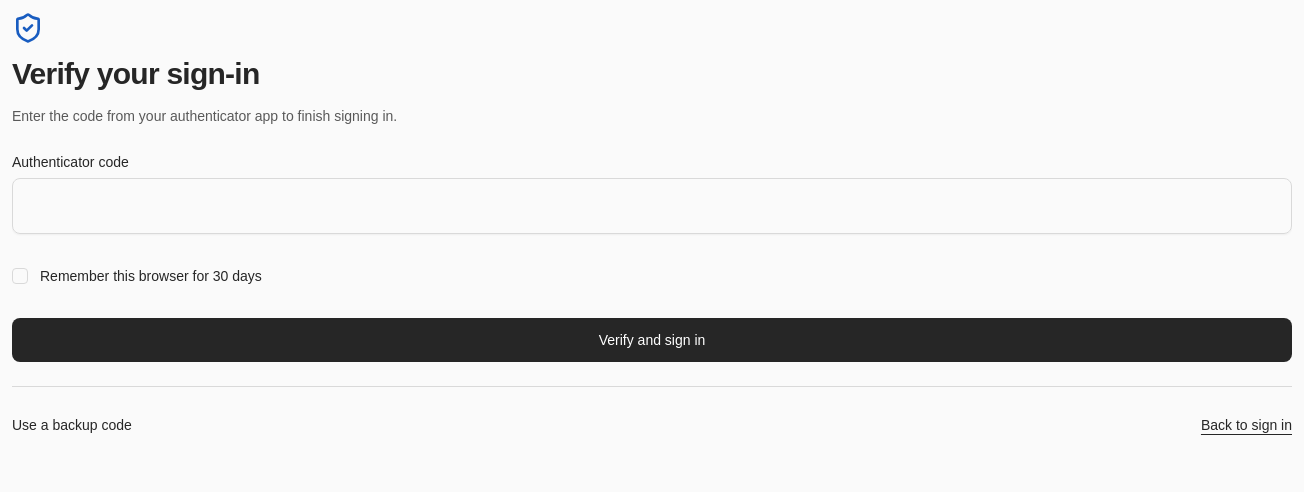
Test: second-factor login › does not complete sign-in when session confirmation is unavailable
Type "012345" into the field labelled "Authenticator code". click: (652, 206)
box: [12,178,1292,234]
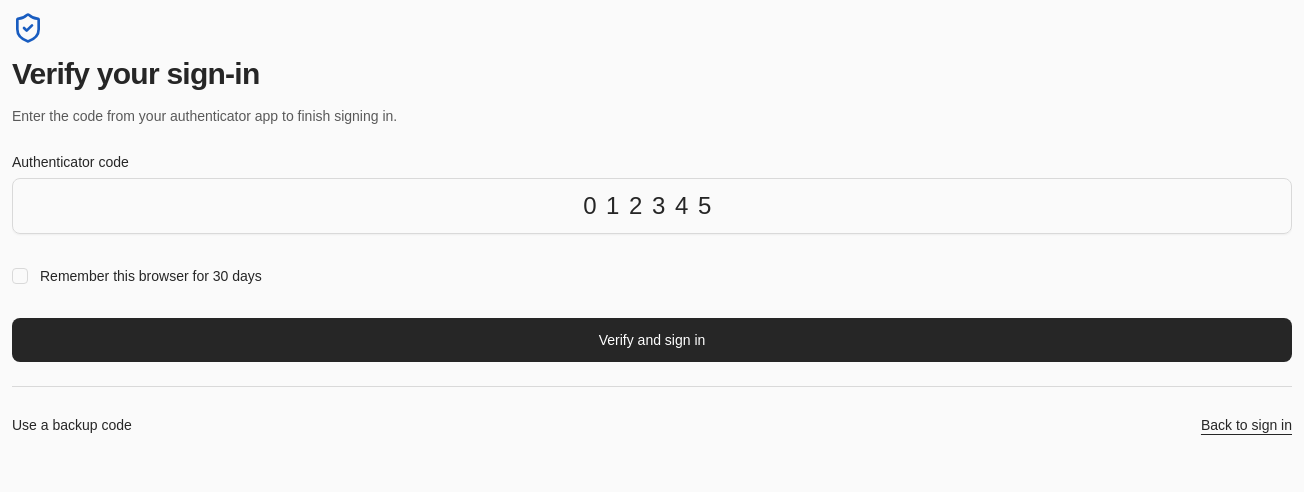
Click the button "Verify and sign in". click: (652, 340)
box: [12,318,1292,362]
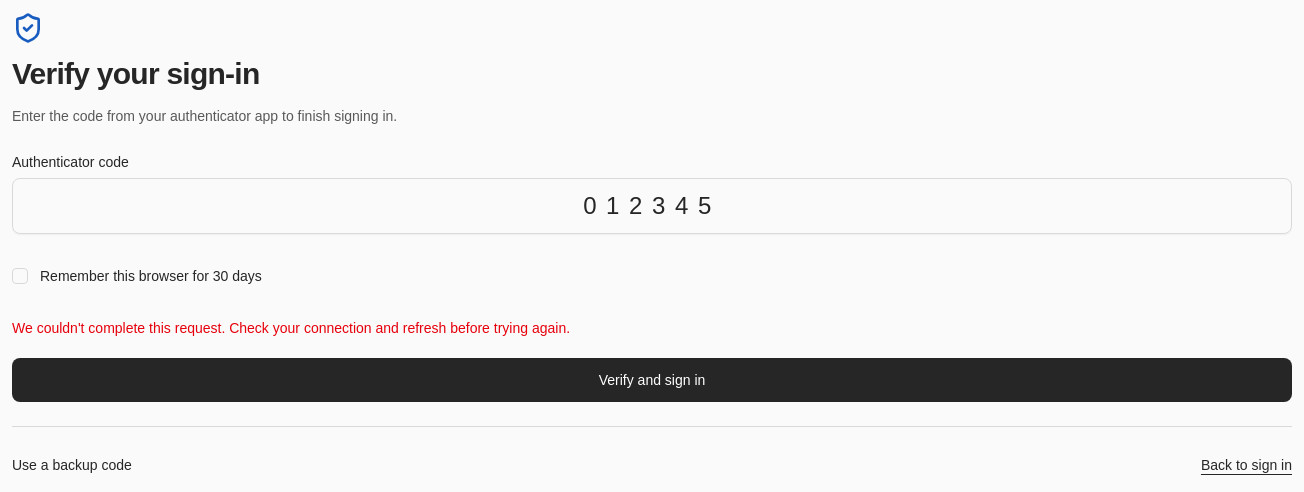
Check: the message shows "couldn't complete", box [12,320,570,336]
